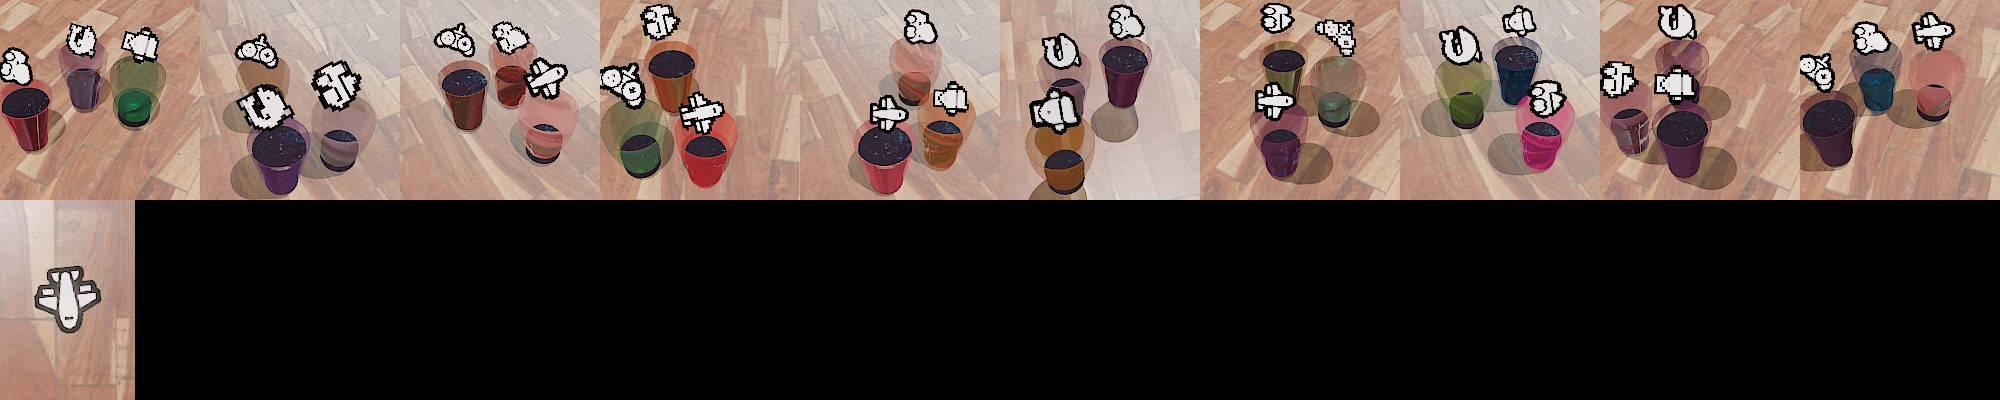icon: (34, 265, 102, 334), (236, 84, 297, 131), (312, 59, 362, 109), (1029, 86, 1080, 133), (599, 61, 647, 109), (679, 90, 727, 135), (524, 57, 569, 101), (1651, 66, 1700, 105), (1438, 24, 1482, 66), (1910, 12, 1956, 51), (1313, 19, 1356, 60), (1040, 31, 1081, 72), (433, 21, 477, 59), (869, 94, 911, 133), (235, 33, 280, 69), (1528, 79, 1568, 118), (1798, 52, 1837, 92), (1255, 81, 1296, 119), (640, 3, 680, 41), (1657, 3, 1697, 41), (1600, 59, 1638, 98), (1853, 20, 1893, 57), (120, 27, 161, 63), (1107, 4, 1145, 41), (491, 21, 532, 55), (0, 47, 34, 87), (902, 8, 937, 46), (932, 80, 970, 114), (65, 22, 98, 59), (1500, 5, 1537, 36), (1260, 3, 1295, 35)
